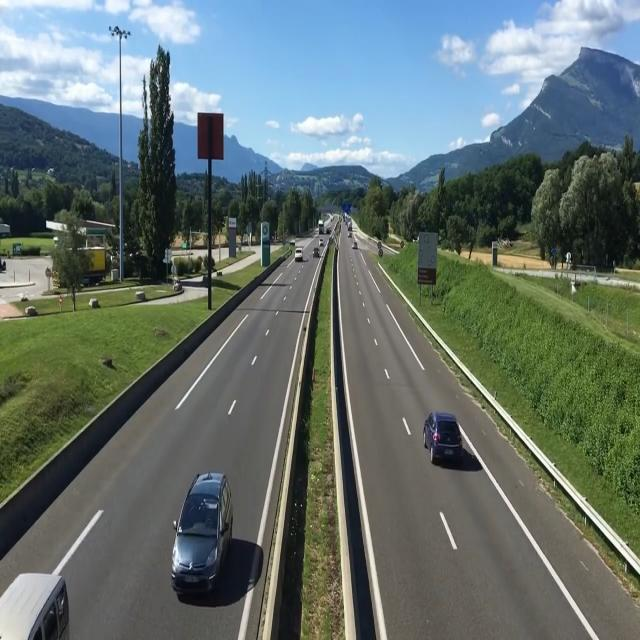car: (175, 462, 236, 604), (0, 570, 72, 638), (428, 410, 467, 474), (294, 245, 304, 266)
